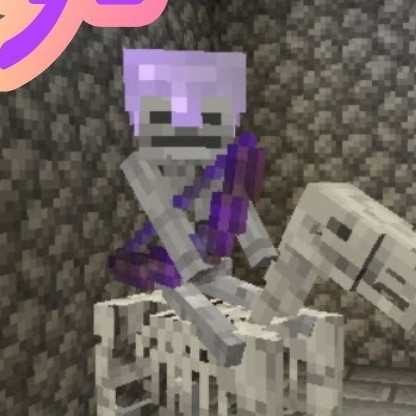skeleton: (110, 35, 263, 189)
